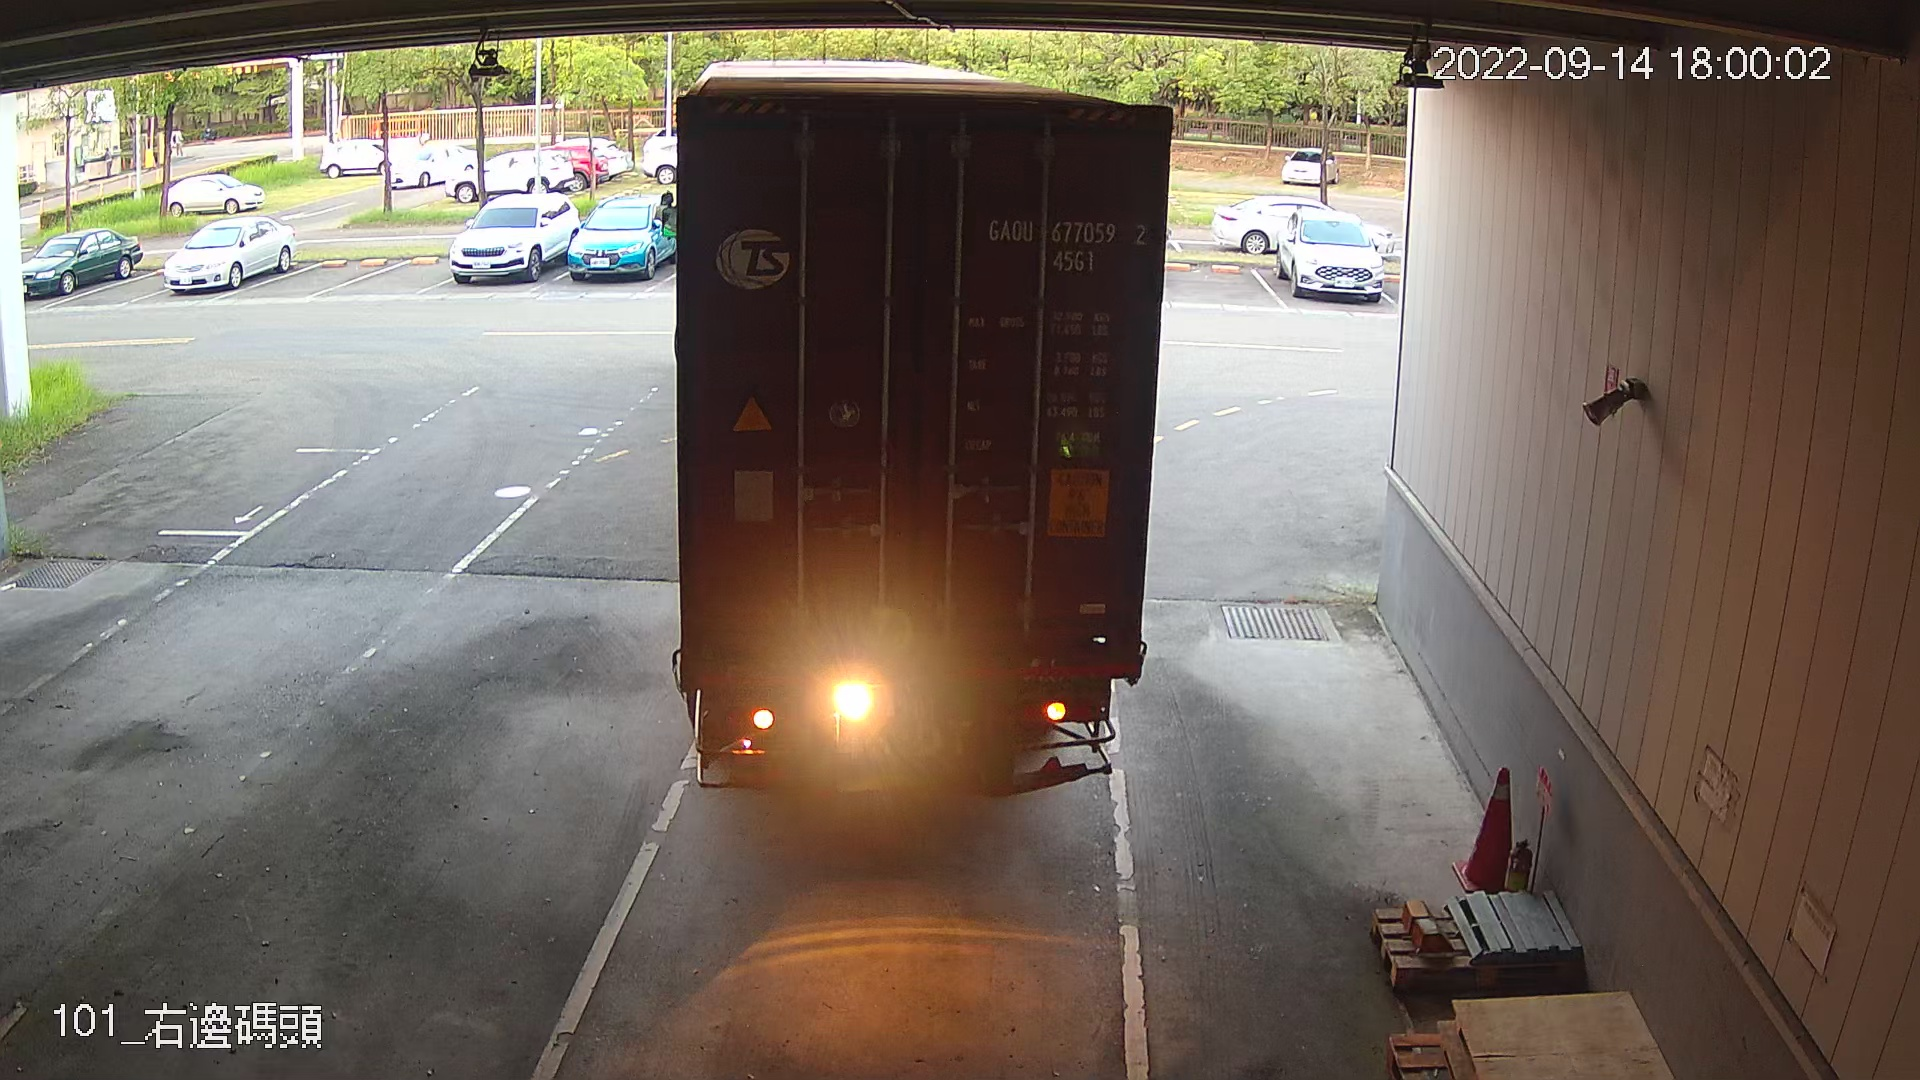container: (976, 208, 1156, 280)
